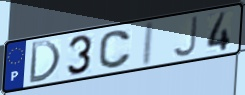3: (65, 33, 96, 78)
4: (204, 10, 232, 53)
C: (97, 29, 133, 71)
D: (27, 39, 63, 85)
I: (140, 20, 156, 68)
J: (171, 14, 200, 59)
